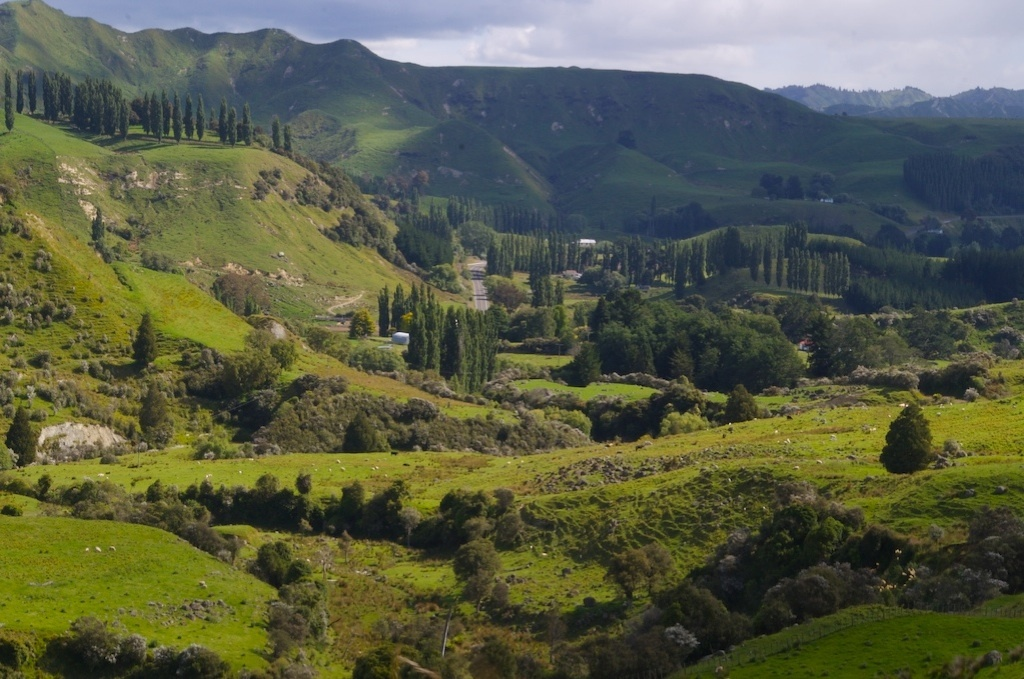Tree: (0, 63, 1024, 678)
